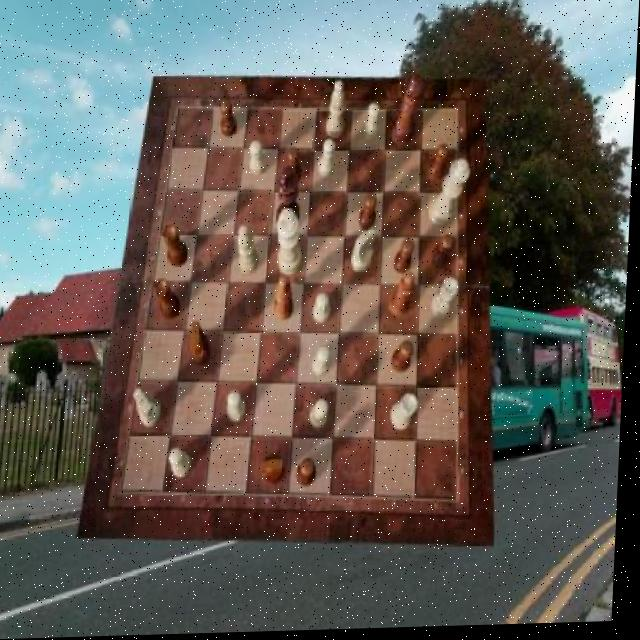bishop: (393, 275, 418, 319), (274, 278, 296, 324)
black-bishop: (278, 165, 303, 231)
black-king: (192, 322, 216, 368), (264, 459, 288, 489)
black-knight: (432, 238, 456, 273), (396, 241, 417, 278), (429, 148, 450, 184), (219, 101, 238, 140), (395, 344, 417, 377), (360, 196, 379, 232), (286, 148, 304, 186), (301, 461, 321, 489)
black-pawn: (392, 76, 425, 148)
black-queen: (163, 226, 192, 269), (155, 279, 184, 321)
black-rook: (238, 228, 262, 277), (327, 83, 346, 142)
white-bishop: (277, 210, 306, 278)
white-king: (136, 388, 166, 429), (353, 229, 378, 275)
white-knight: (173, 449, 197, 480), (319, 141, 338, 180), (250, 143, 269, 178), (365, 105, 382, 143), (230, 392, 249, 425), (313, 401, 332, 432), (315, 349, 334, 380), (316, 295, 334, 326)
white-pawn: (431, 161, 472, 230)
white-queen: (432, 280, 461, 322), (393, 395, 421, 433)
